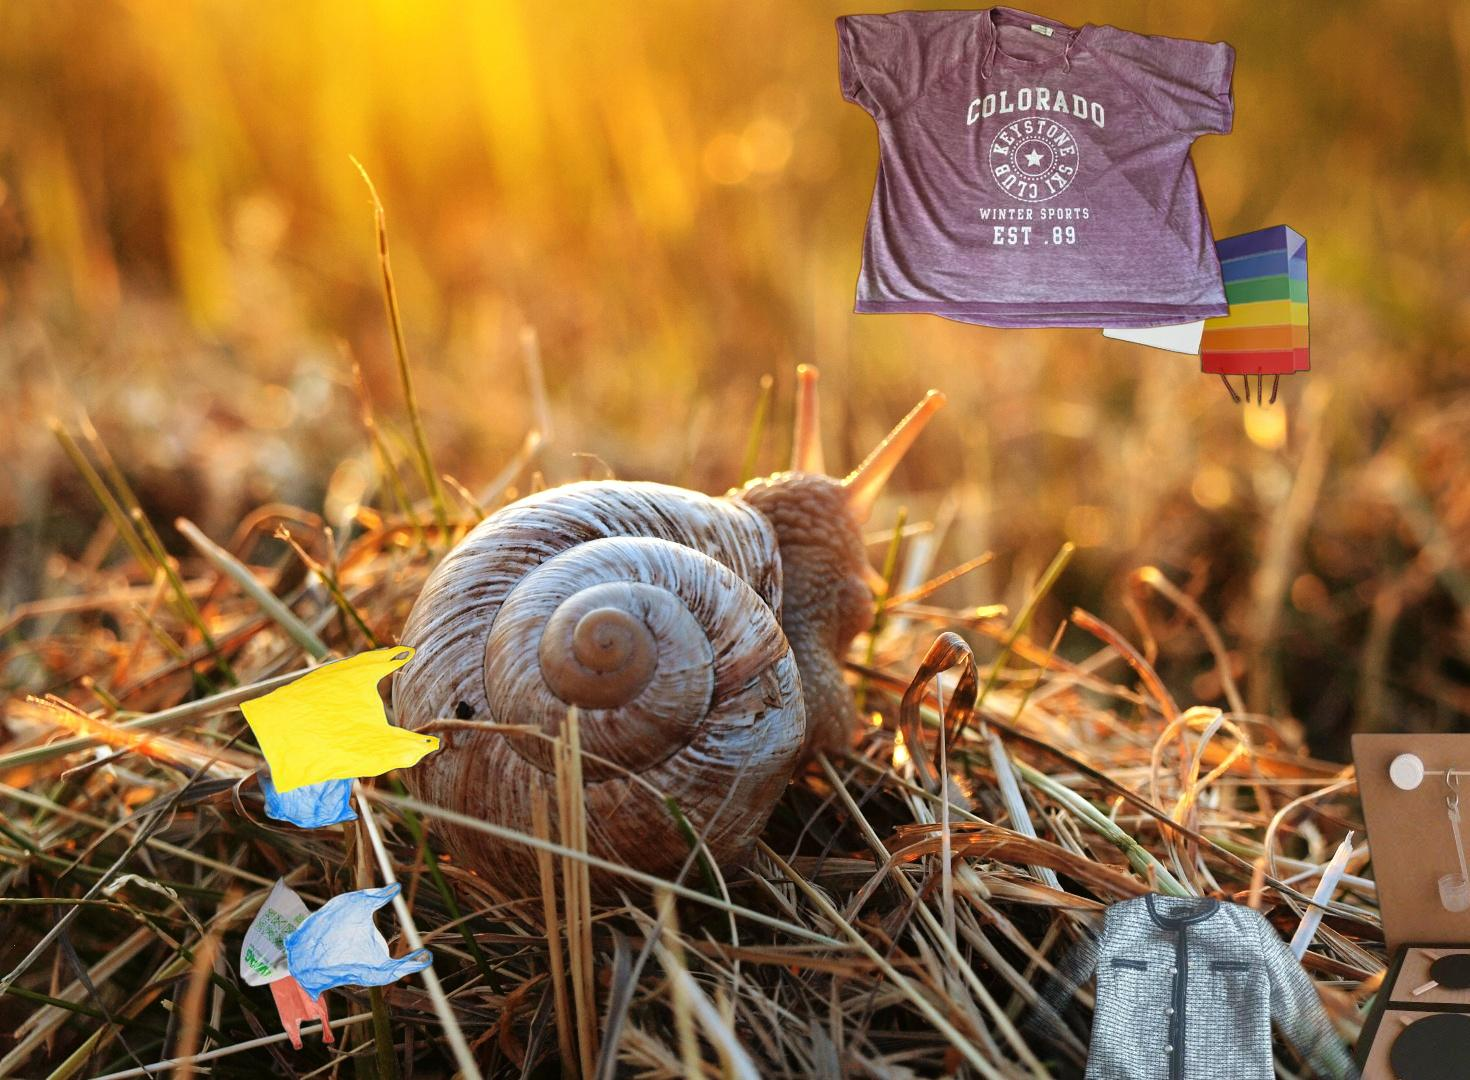clothes: (831, 3, 1241, 332), (980, 887, 1380, 1080)
paper-bag: (1074, 221, 1312, 436)
plastic-bag: (236, 593, 443, 831), (229, 871, 437, 1053)
trashbox-cardboard: (1327, 728, 1470, 1080)
